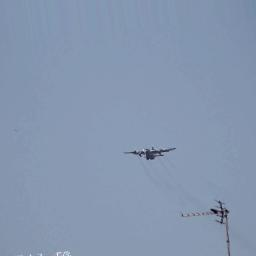Airplane: (123, 146, 177, 159)
